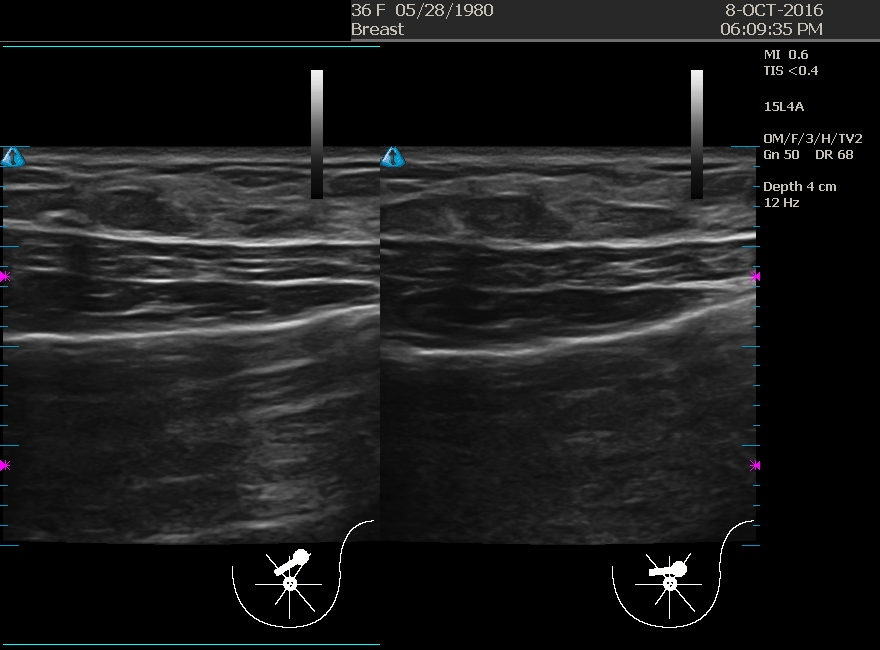BIRADS_3: (30, 152, 230, 352), (415, 155, 615, 355)
